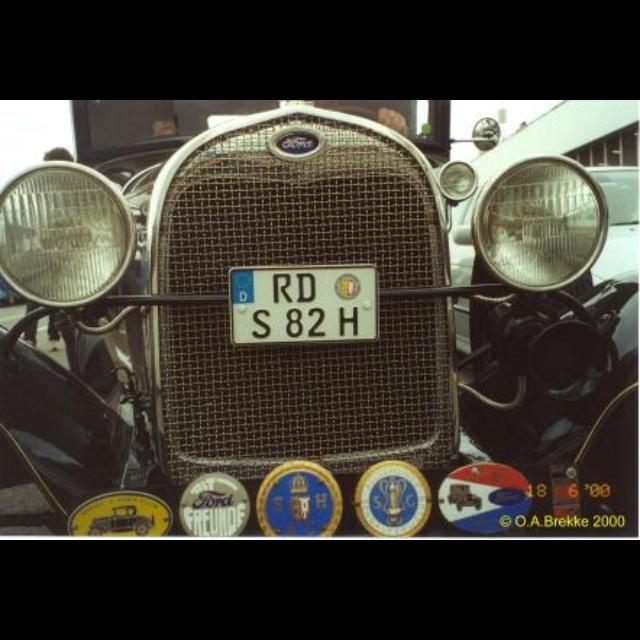d_license_plate: (228, 265, 380, 343)
